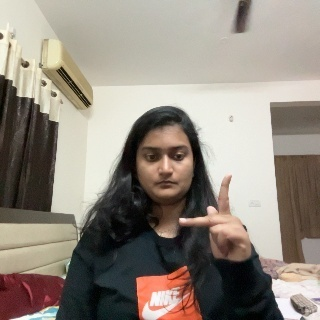Okay: (180, 172, 257, 278)
